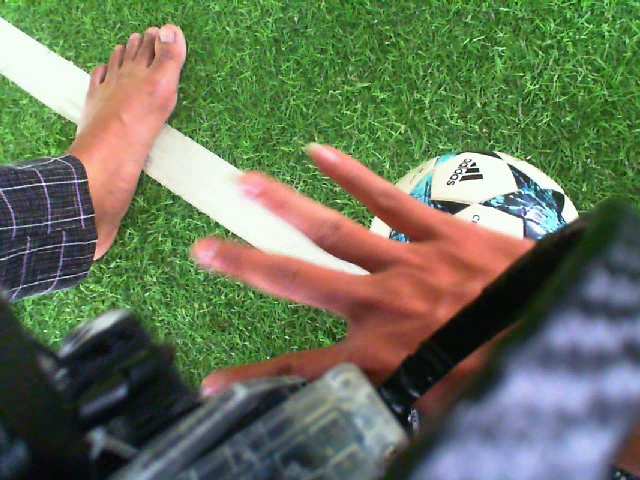ball: (385, 148, 582, 222)
